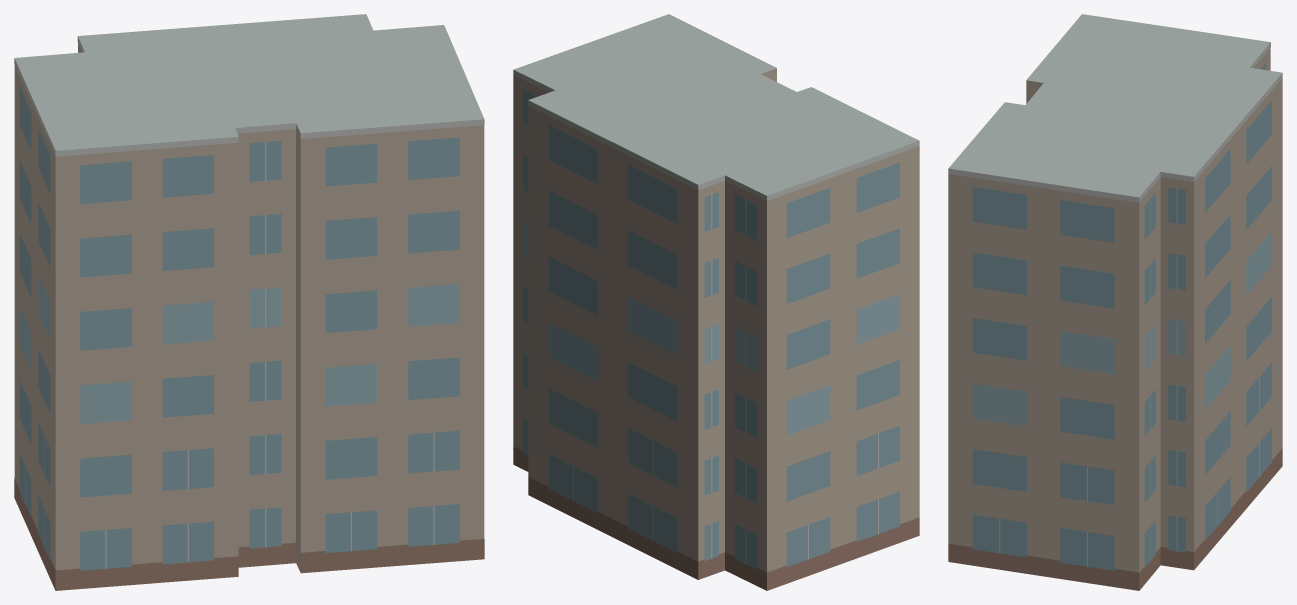
Rendered from survey-upis-32705386.glb.
The picture shows the model from 3 angles, left to right: view 1: azimuth 30°, elevation 25°; view 2: azimuth 150°, elevation 25°; view 3: azimuth 270°, elevation 25°; orthographic projection. The views are drawn at different scales.
Visible parts, largest first — view 1: survey-upis-32705386.tmp; view 2: survey-upis-32705386.tmp; view 3: survey-upis-32705386.tmp.
Boxes of the visible parts, x1,y1,x2,y2 form: survey-upis-32705386.tmp: (14, 14, 484, 590); survey-upis-32705386.tmp: (513, 14, 919, 590); survey-upis-32705386.tmp: (948, 14, 1282, 590).
Size of the model in its own units: 18.32 by 18.3 by 14.11.
